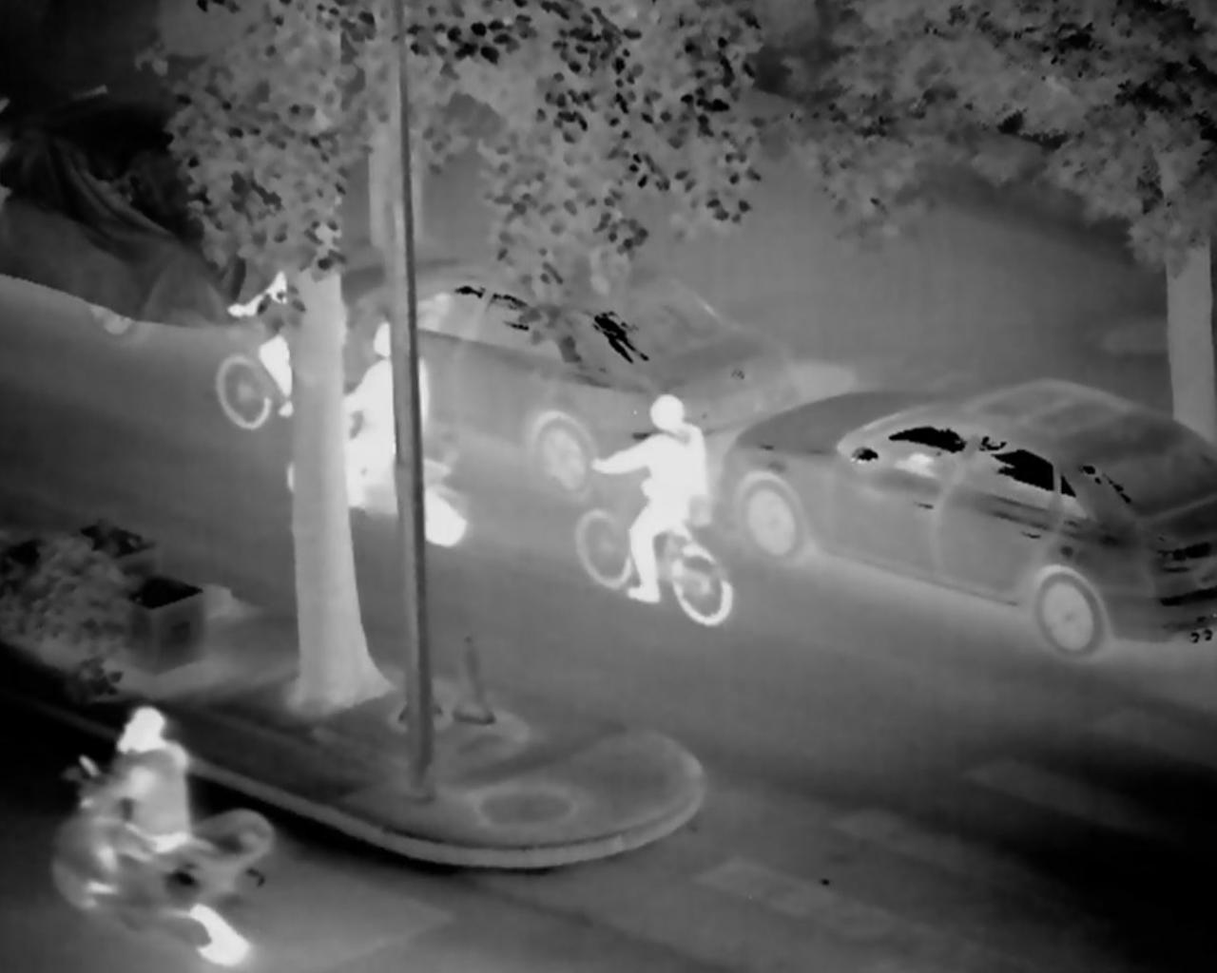person: (580, 392, 714, 614), (85, 704, 203, 927), (344, 315, 423, 503)
